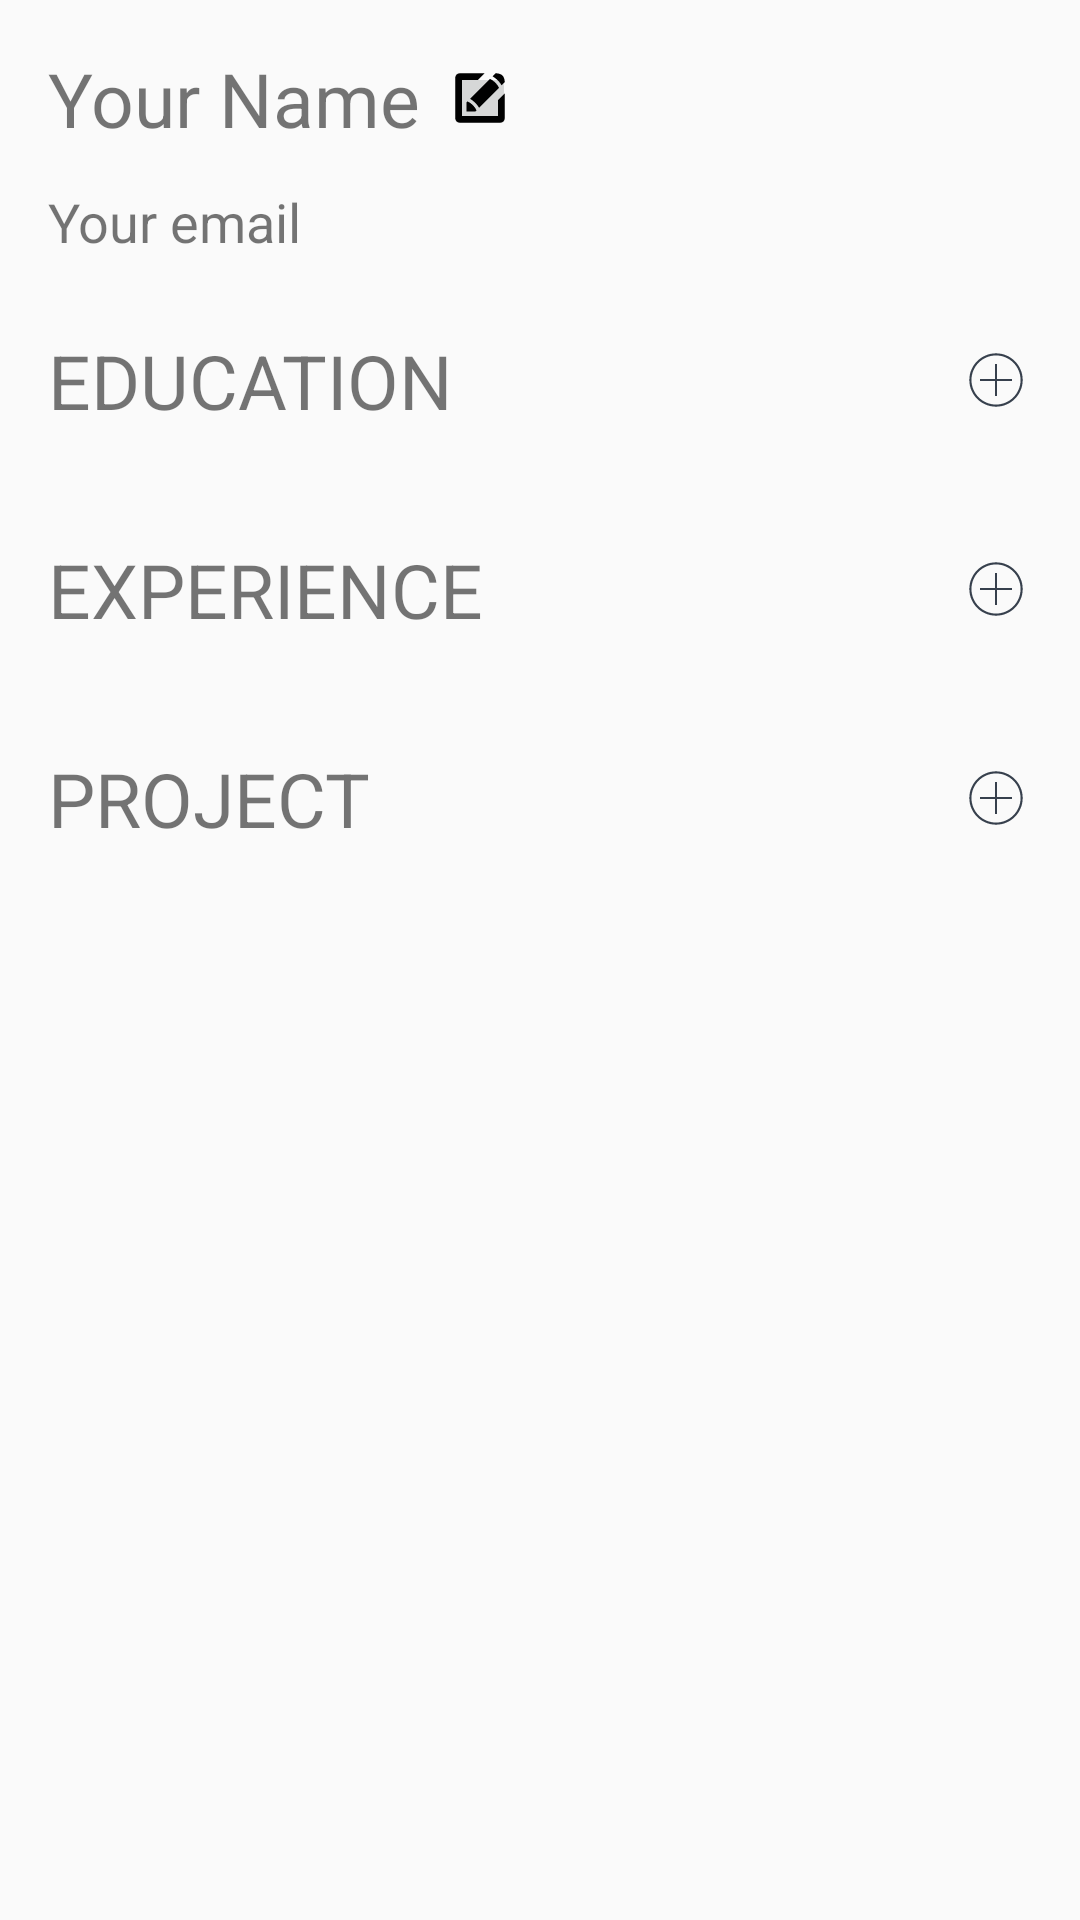

Named icons in this screenshot (1080×1920) and their bounding boxes, (x1, y1, x2, y2):
add: (969, 771, 1023, 825)
editor: (455, 73, 505, 123)
